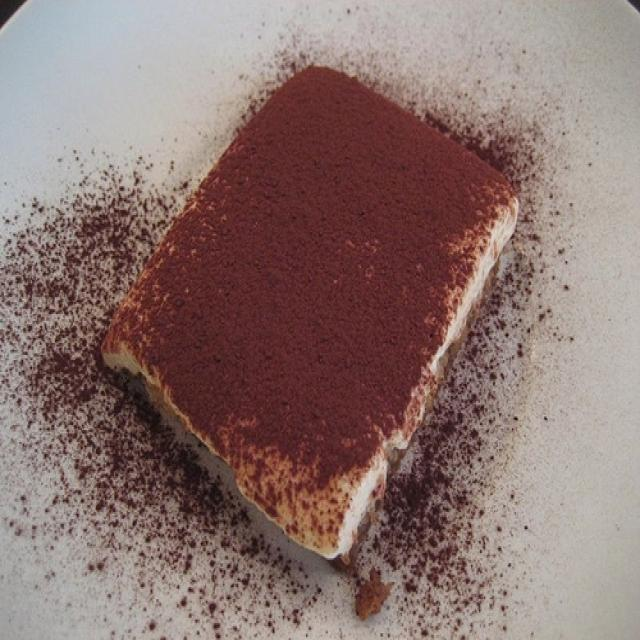蛋糕甜品: (34, 34, 592, 613)
